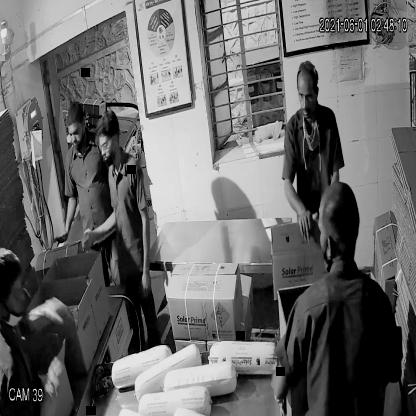goggles: (98, 135, 121, 154)
no_goggles: (293, 87, 321, 107), (63, 126, 89, 142)
